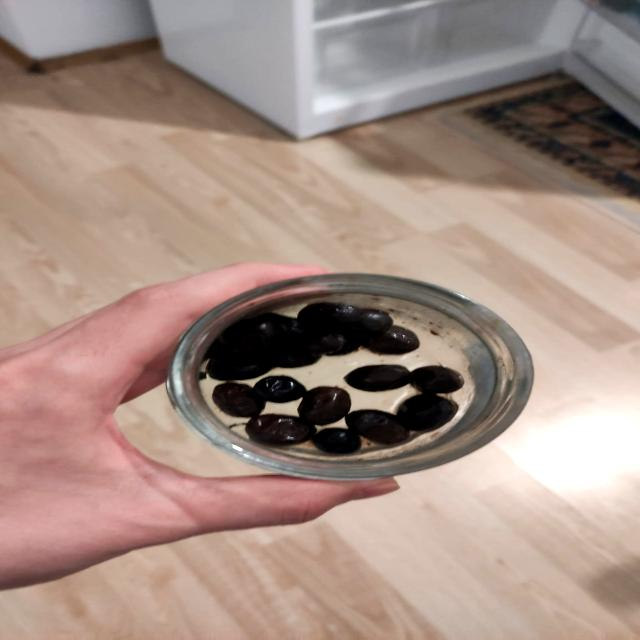olive: (178, 266, 505, 477)
